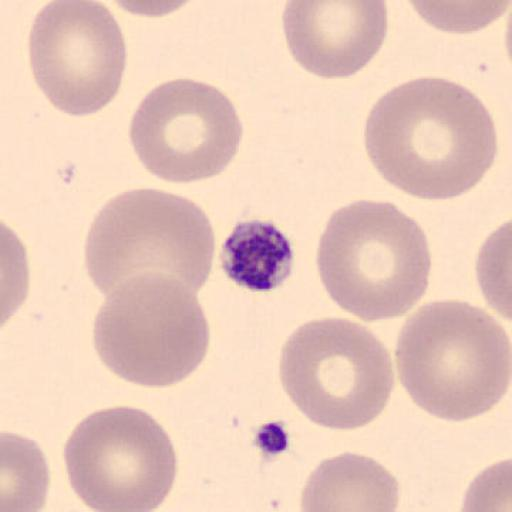Platelet: (218, 217, 297, 294)
RBC: (361, 74, 499, 204), (84, 186, 216, 302), (314, 196, 432, 324), (394, 296, 512, 423), (90, 270, 212, 390), (278, 314, 396, 432), (126, 76, 244, 186), (61, 403, 179, 512), (26, 0, 128, 117), (280, 0, 389, 80), (297, 450, 401, 512), (2, 429, 52, 512), (475, 216, 512, 326), (404, 0, 512, 35), (0, 221, 30, 330), (458, 455, 512, 512), (104, 0, 198, 18), (503, 0, 512, 78)
